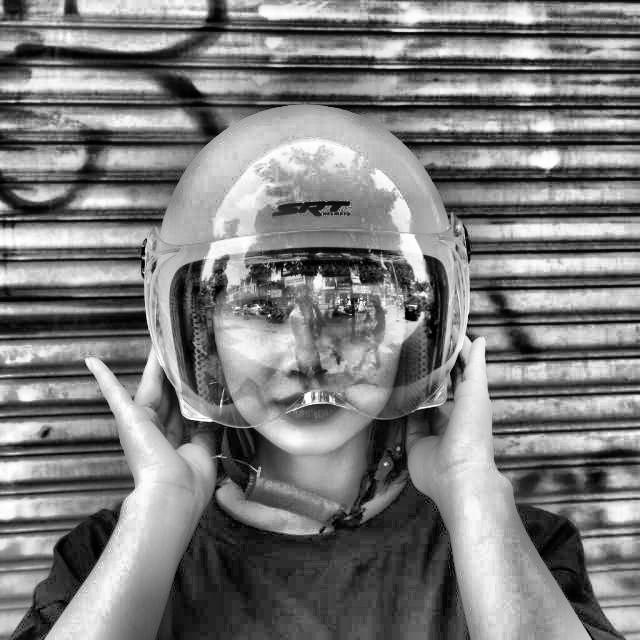Helmet: (133, 92, 482, 530)
